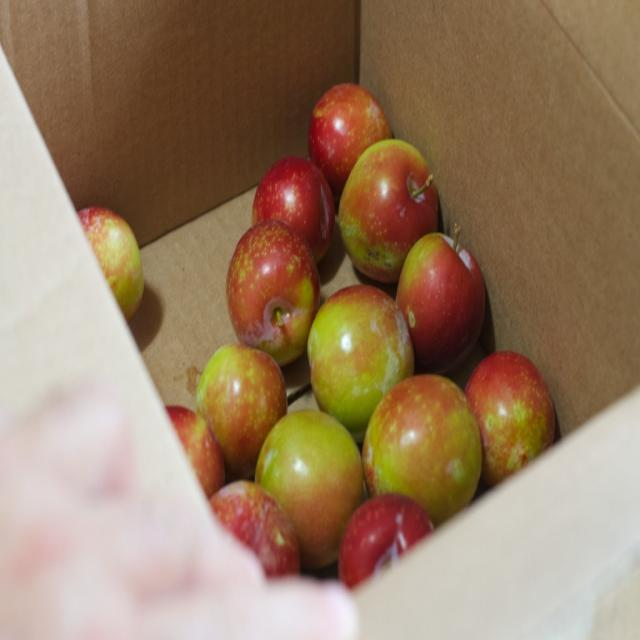Healty Apple: (195, 340, 292, 465)
